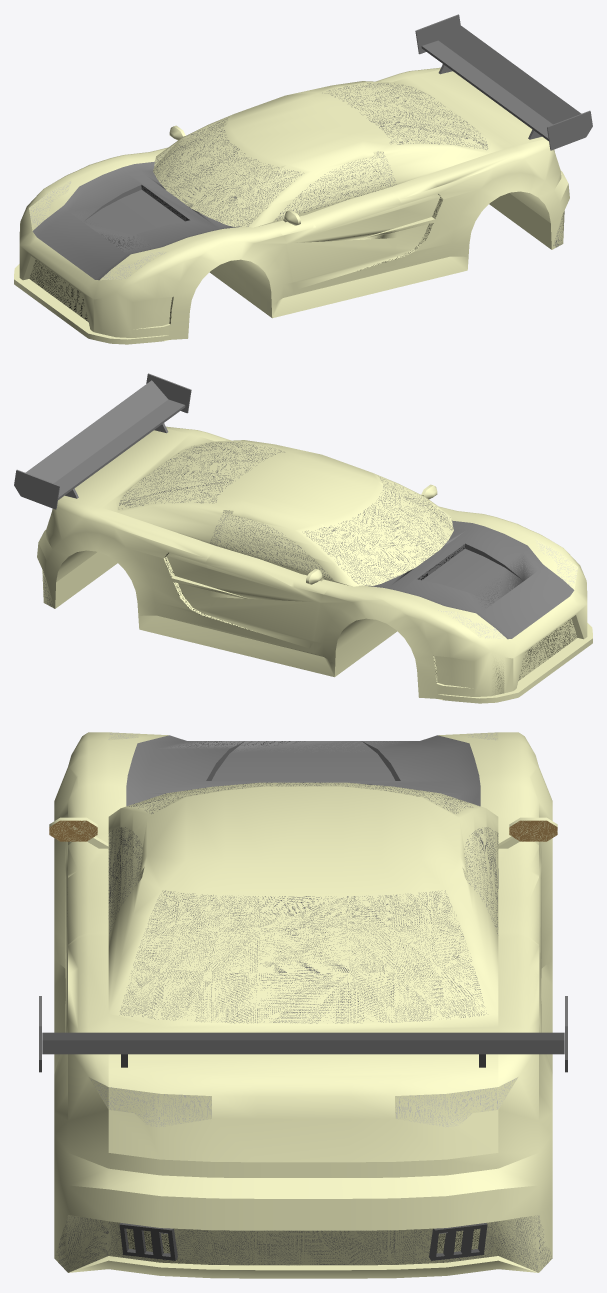
File: body.fbx
3 renders of one model, top to bottom at view 1: azimuth 30°, elevation 25°; view 2: azimuth 150°, elevation 25°; view 3: azimuth 270°, elevation 25°, orthographic. The views are drawn at different scales.
Parts seen in each view (by area): view 1: group_0; view 2: group_0; view 3: group_0.
Boxes of the visible parts, x1=… form: group_0: x1=14, y1=14, x2=592, y2=344; group_0: x1=14, y1=373, x2=592, y2=703; group_0: x1=39, y1=732, x2=567, y2=1278.
Bounding box in the file's own units: 691 × 183 × 330.
